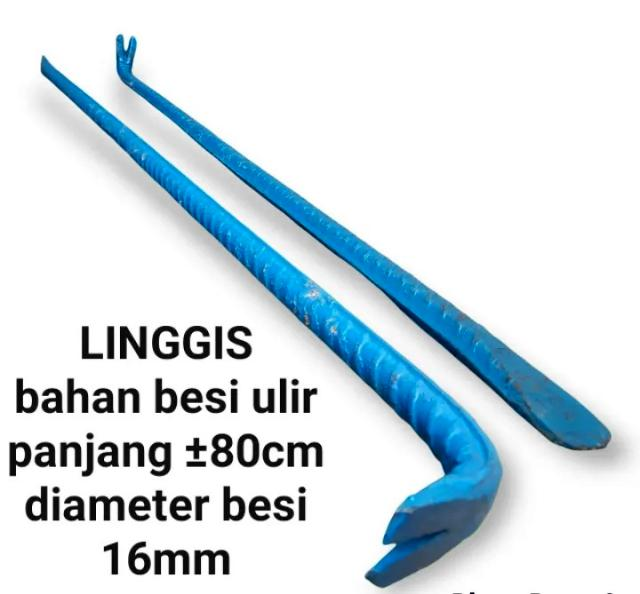crow bar: (39, 56, 504, 593), (114, 33, 617, 458)
